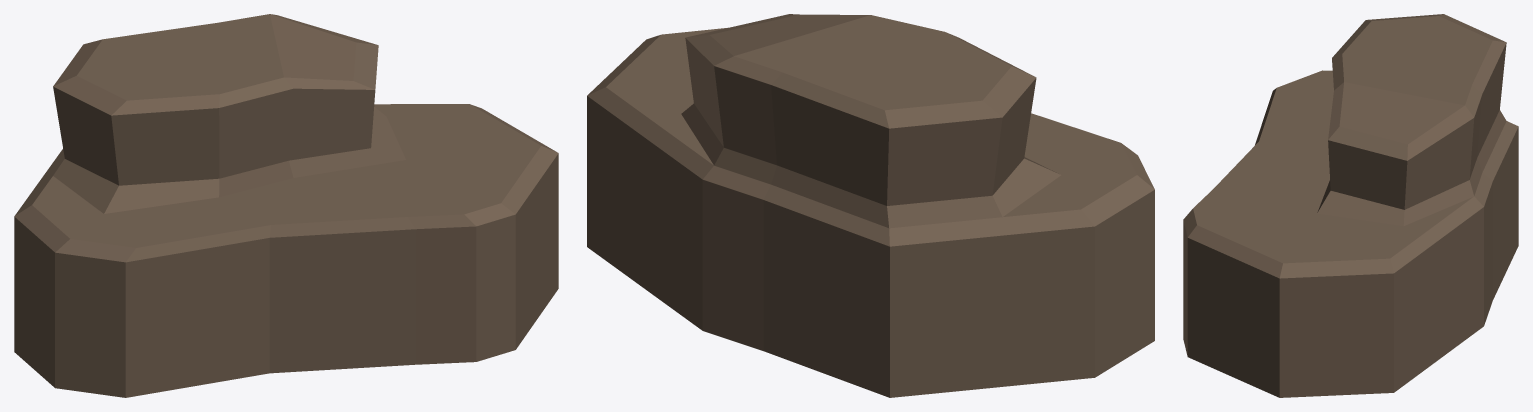
Rendered from Rockstack_02.fbx.
3 renders of one model, left to right at view 1: azimuth 30°, elevation 25°; view 2: azimuth 150°, elevation 25°; view 3: azimuth 270°, elevation 25°, orthographic. The views are drawn at different scales.
Parts seen in each view (by area): view 1: Plane.001; view 2: Plane.001; view 3: Plane.001.
Part boxes in pixels (x1,y1,x2,y2): Plane.001: (14, 14, 558, 397); Plane.001: (587, 14, 1154, 397); Plane.001: (1183, 14, 1518, 397).
Size of the model in its own units: 1059 by 511 by 728.
